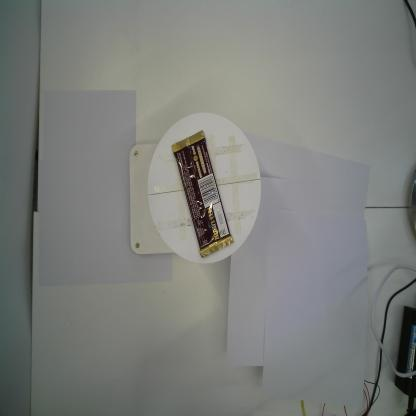Chocolate: (170, 130, 235, 260)
